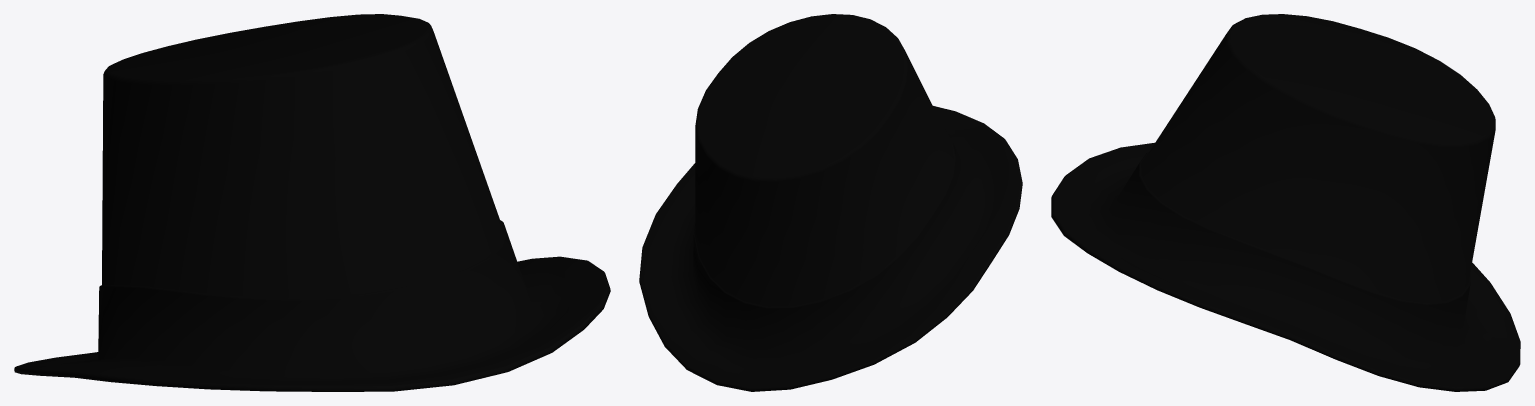
Rendered from SurvivorMale_Head_Hat_NewYearParty_LOD0.glb.
The picture shows the model from 3 angles, left to right: view 1: azimuth 30°, elevation 25°; view 2: azimuth 150°, elevation 25°; view 3: azimuth 270°, elevation 25°; orthographic projection. The views are drawn at different scales.
Parts seen in each view (by area): view 1: Hoodie; view 2: Hoodie; view 3: Hoodie.
Boxes of the visible parts, <box> form: Hoodie: <box>14,14,610,391</box>; Hoodie: <box>639,14,1022,391</box>; Hoodie: <box>1051,14,1520,391</box>.
Bounding box in the file's own units: 0.2531 × 0.2121 × 0.2824.
Materials: 1 (1 with a texture image).
